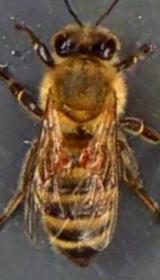varroa_mite: (71, 145, 94, 168)
